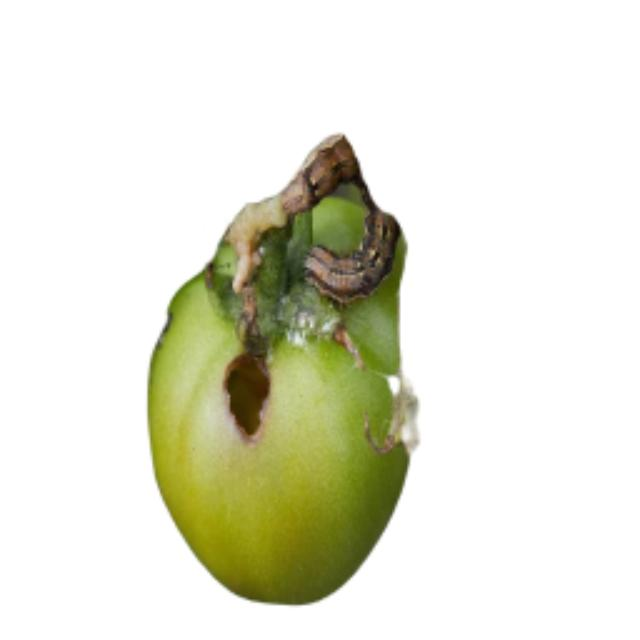defect: (134, 130, 423, 614)
